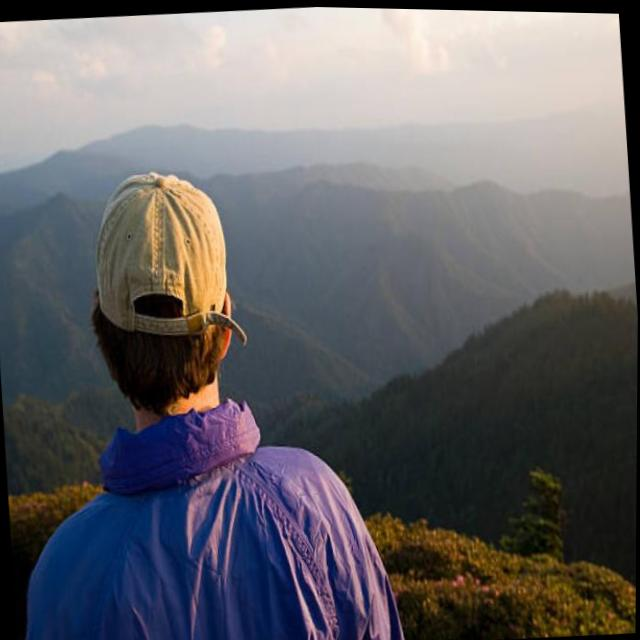no helmet: (62, 125, 273, 447)
